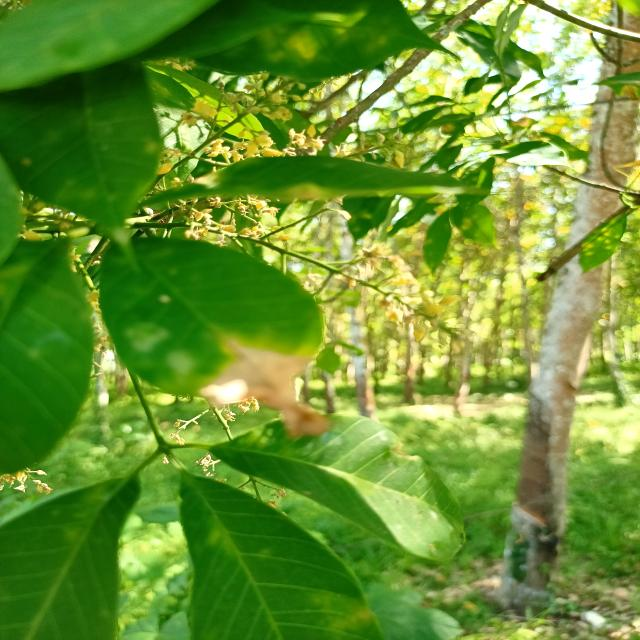Leaf-Blight: (200, 341, 330, 437)
